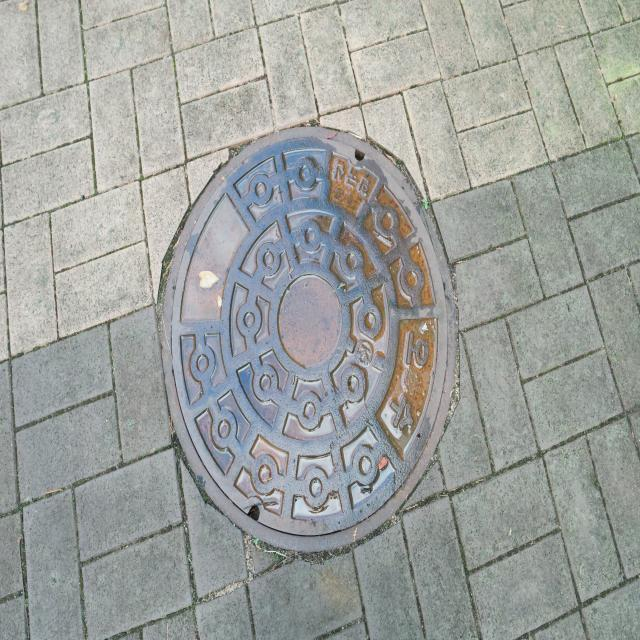manhole: (159, 126, 456, 552)
